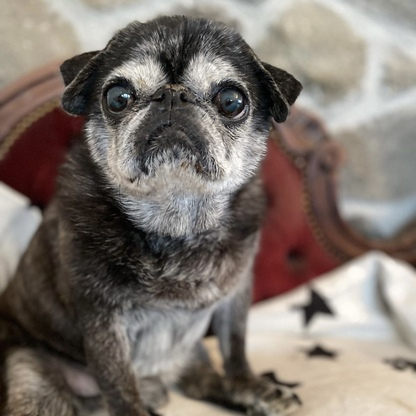Pug: (1, 4, 312, 416)
